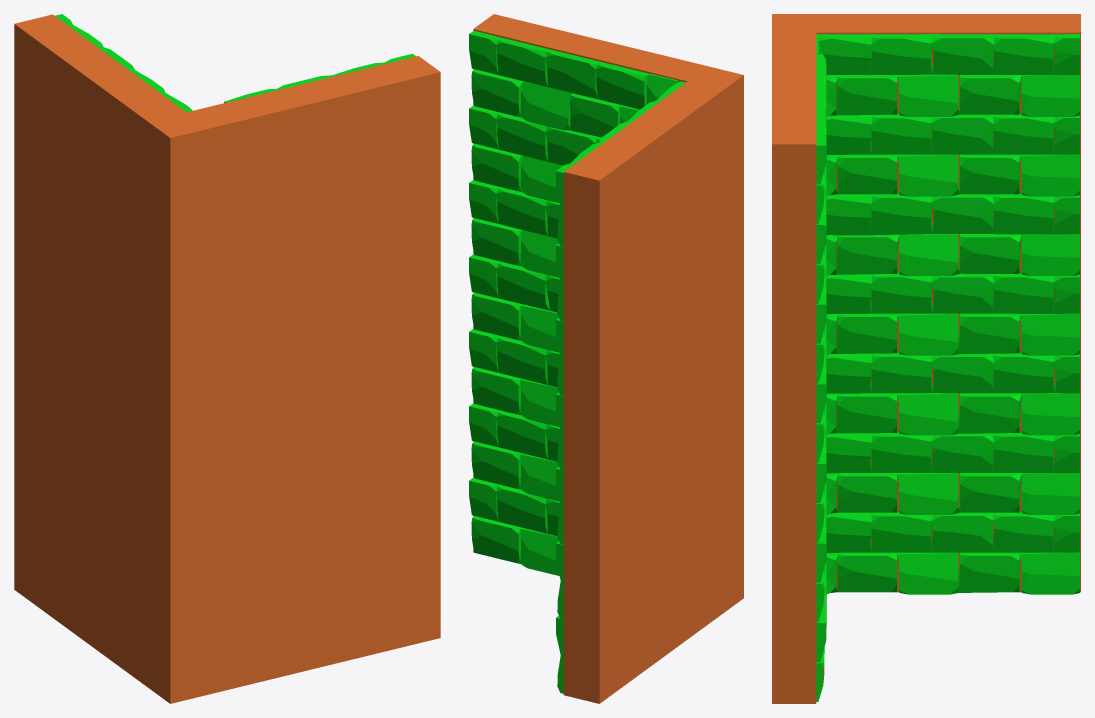
File: DungeonCorner.glb
3 views of the same model, side by side, from view 1: azimuth 30°, elevation 25°; view 2: azimuth 150°, elevation 25°; view 3: azimuth 270°, elevation 25° (orthographic). The views are drawn at different scales.
Visible parts, largest first — view 1: Base; view 2: Base; view 3: Base.
Part boxes in pixels (<box>): Base: <box>14,14,440,703</box>; Base: <box>469,14,743,703</box>; Base: <box>772,14,1080,703</box>.
Size of the model in its own units: 4 by 8 by 4.
